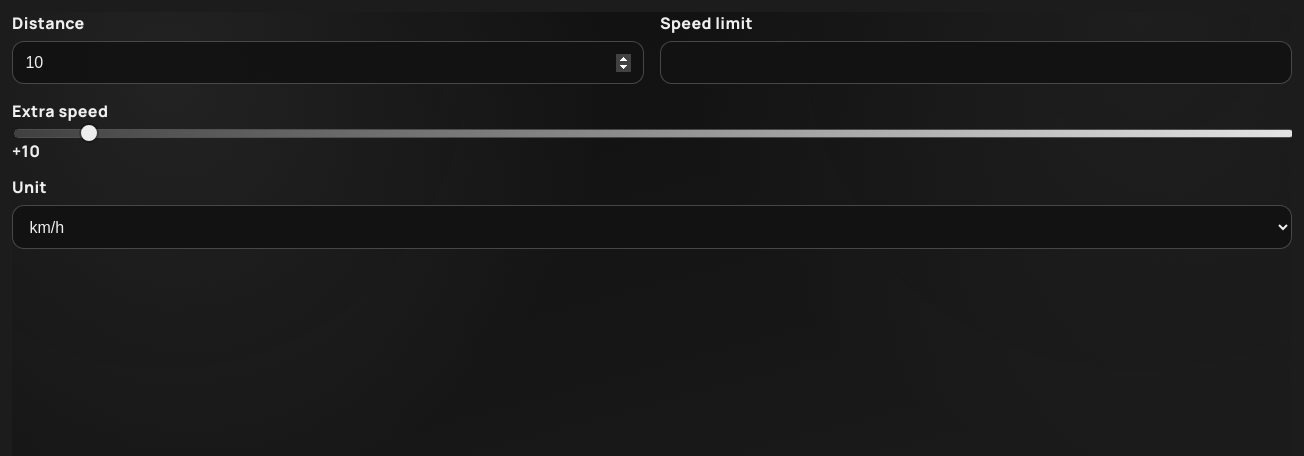
Test case: SpeedCalculatorForm › shows simplified proof elements for valid values
Type "60" into the number field labelled "Speed limit" at (976, 62), box x1=660 y1=41 x2=1292 y2=84
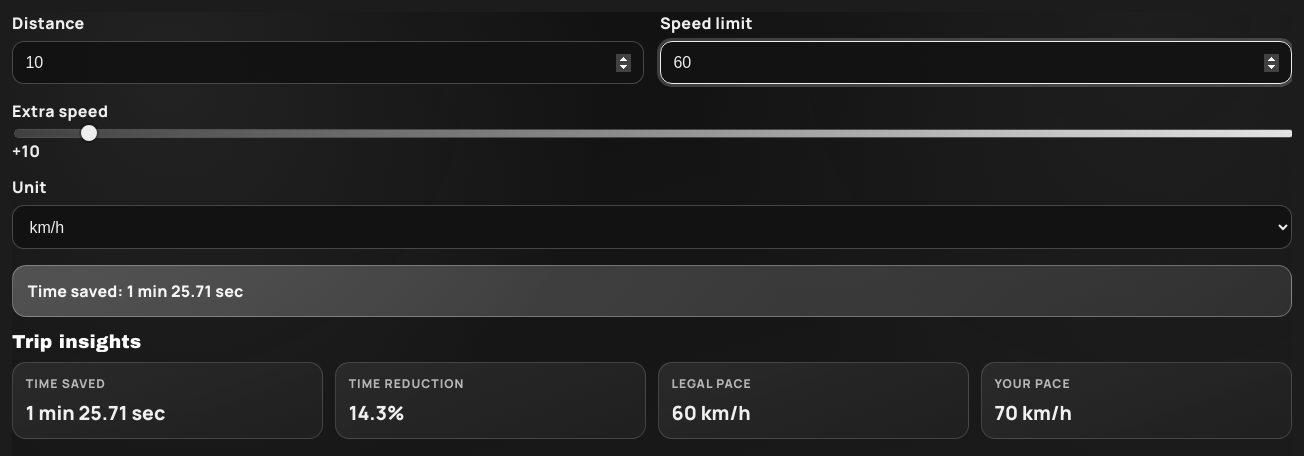
Expected: the heading "Trip insights" is shown, x1=12 y1=332 x2=141 y2=352
Expected: the text "Time saved: 1 min 25.71 sec" is shown, x1=12 y1=265 x2=1292 y2=317
Expected: the heading "Time reduction" is shown, x1=349 y1=375 x2=464 y2=392
